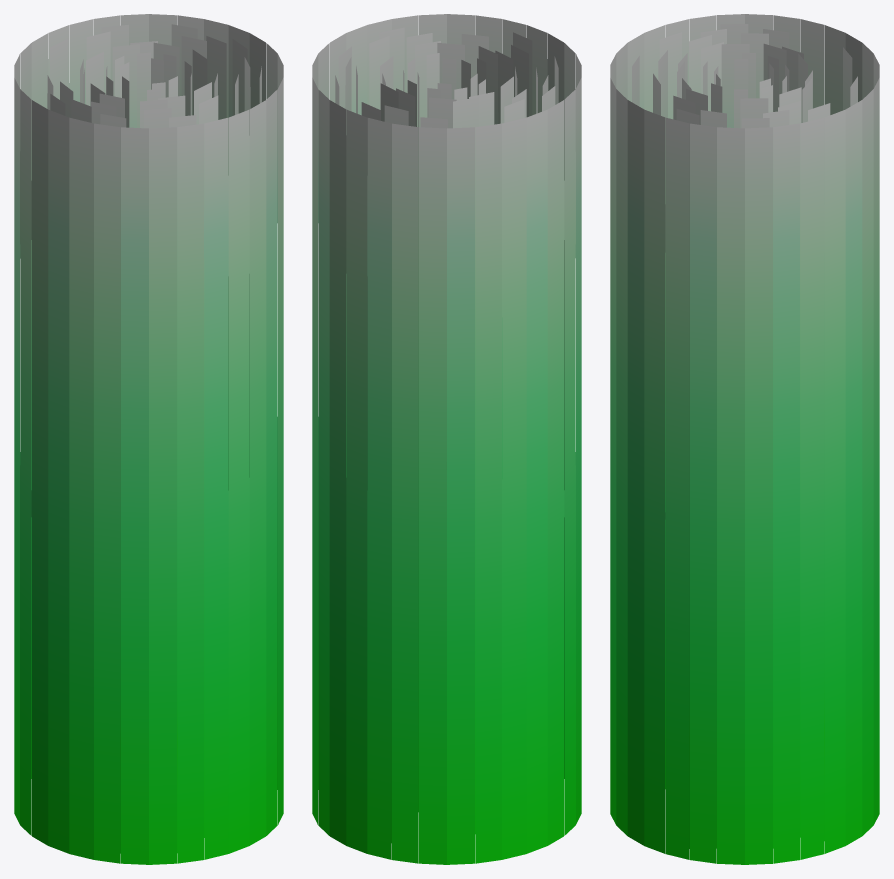
The model's file is brush_v2100_f1950_20220414.fbx.
3 renders of one model, left to right at view 1: azimuth 30°, elevation 25°; view 2: azimuth 150°, elevation 25°; view 3: azimuth 270°, elevation 25°, orthographic.
Parts seen in each view (by area): view 1: brush_v2100_f1950; view 2: brush_v2100_f1950; view 3: brush_v2100_f1950.
Part boxes in pixels (x1,y1,x2,y2): brush_v2100_f1950: (14,14,283,864); brush_v2100_f1950: (312,14,581,864); brush_v2100_f1950: (610,14,879,864).
Size of the model in its own units: 200 by 600 by 199.
